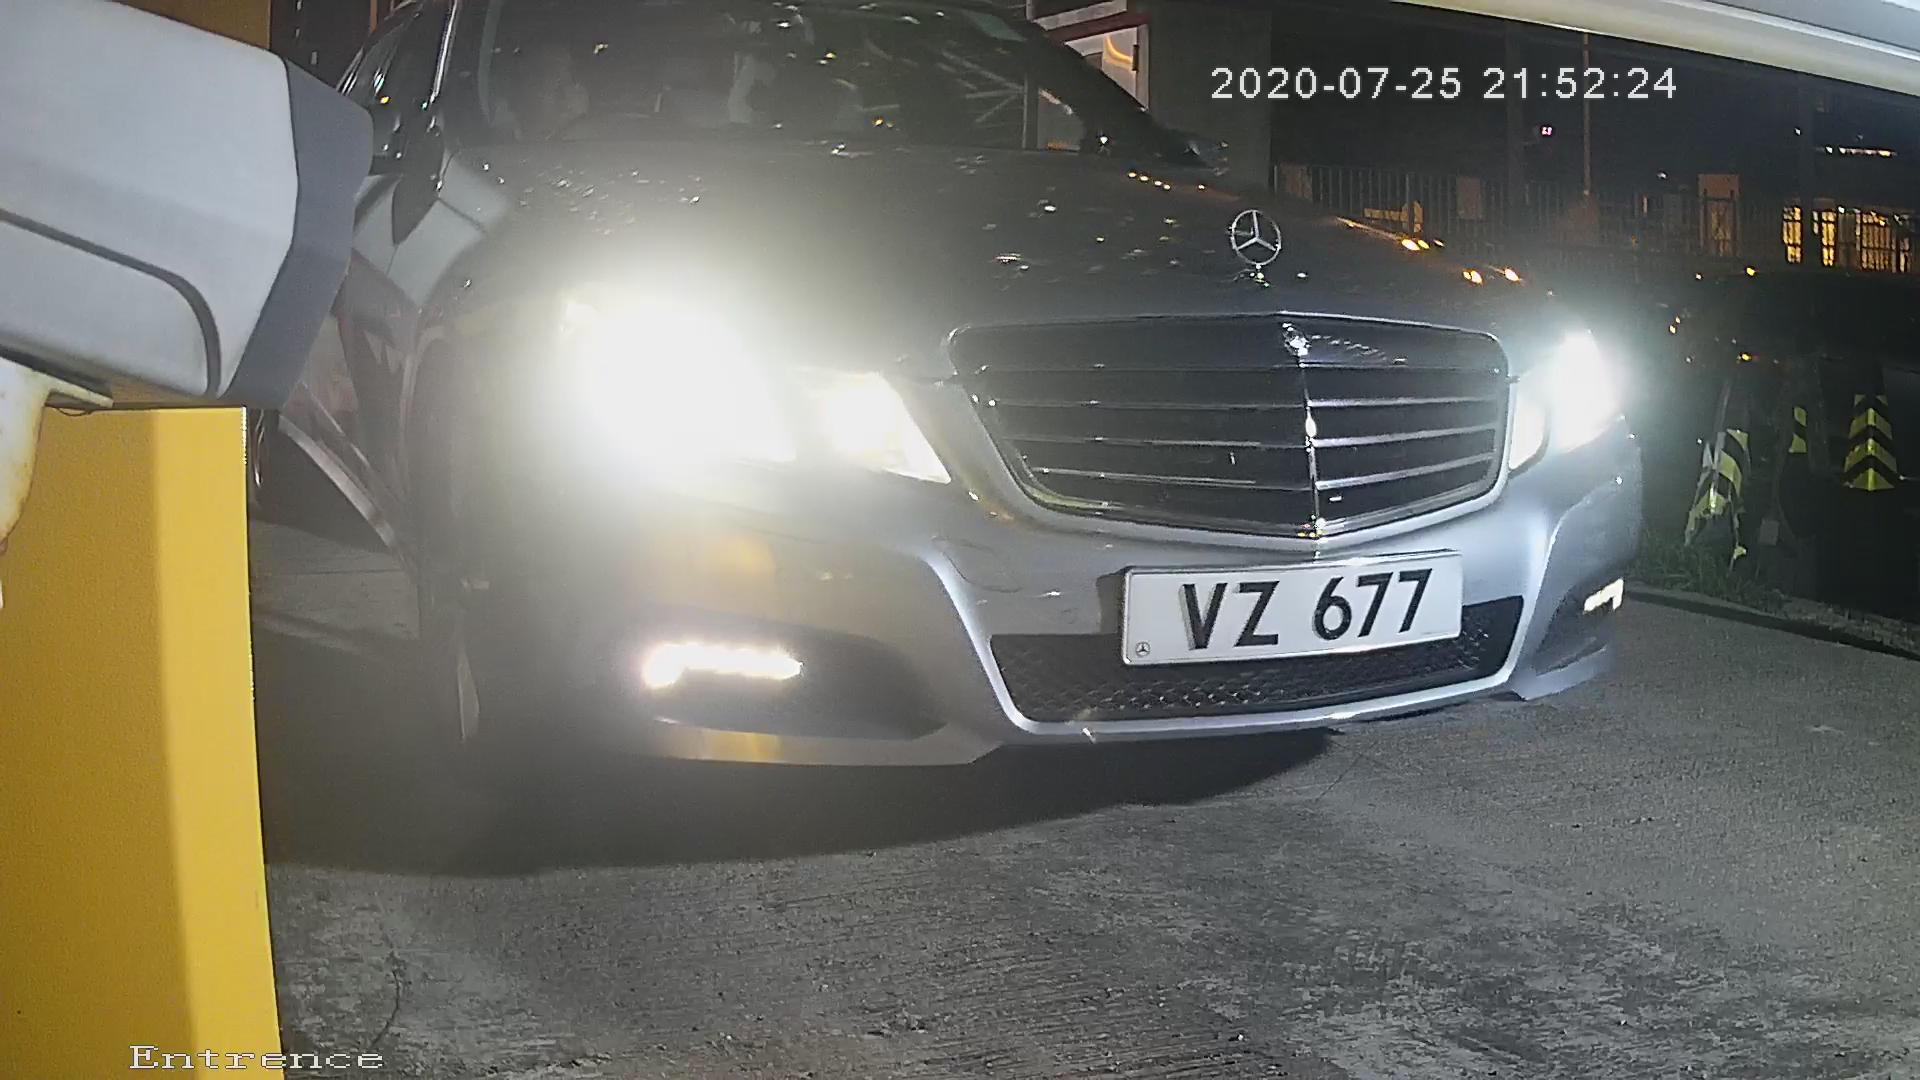Car: (138, 1, 1758, 854)
License Plate: (1089, 536, 1492, 680)
